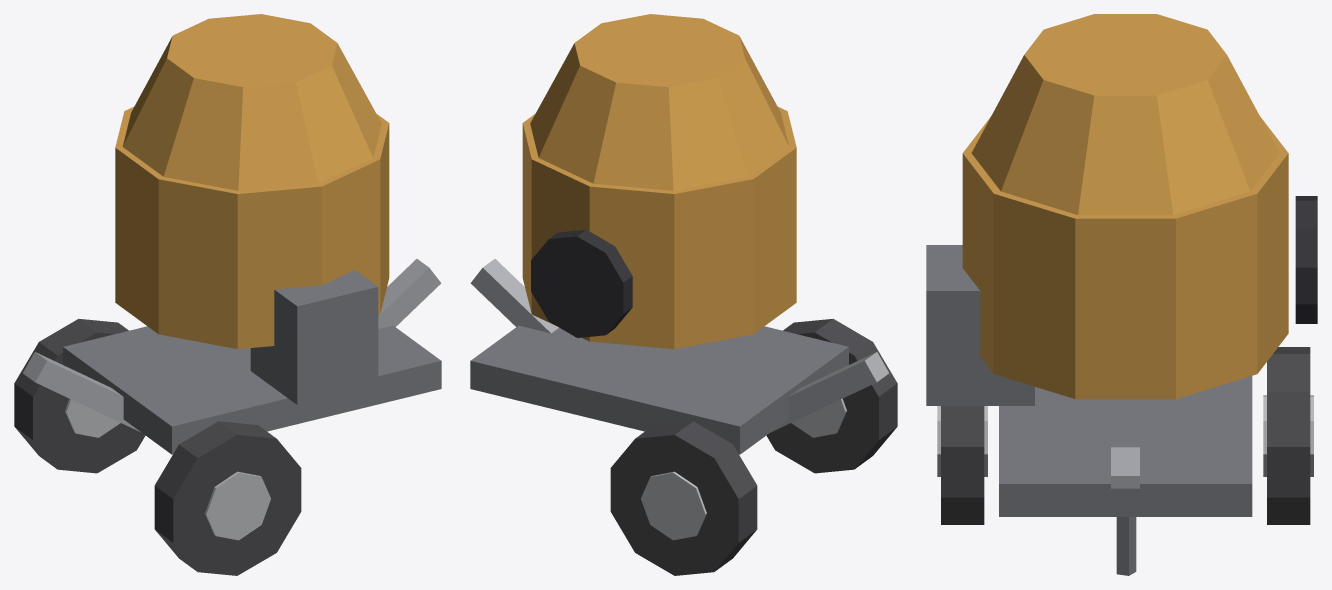
Rendered from Beton_Mikseri.glb.
3 renders of one model, left to right at view 1: azimuth 30°, elevation 25°; view 2: azimuth 150°, elevation 25°; view 3: azimuth 270°, elevation 25°, orthographic. The views are drawn at different scales.
Visible parts, largest first — view 1: Beton_Mikseri; view 2: Beton_Mikseri; view 3: Beton_Mikseri.
Boxes of the visible parts, bbox=[...] form: Beton_Mikseri: bbox=[14, 14, 441, 575]; Beton_Mikseri: bbox=[470, 14, 897, 575]; Beton_Mikseri: bbox=[926, 14, 1317, 575].
Bounding box in the file's own units: 1.51 × 1.57 × 1.08.
